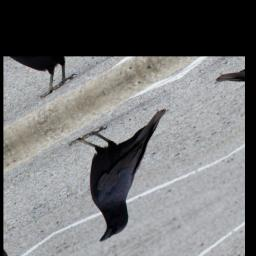Crow: (47, 93, 210, 244)
